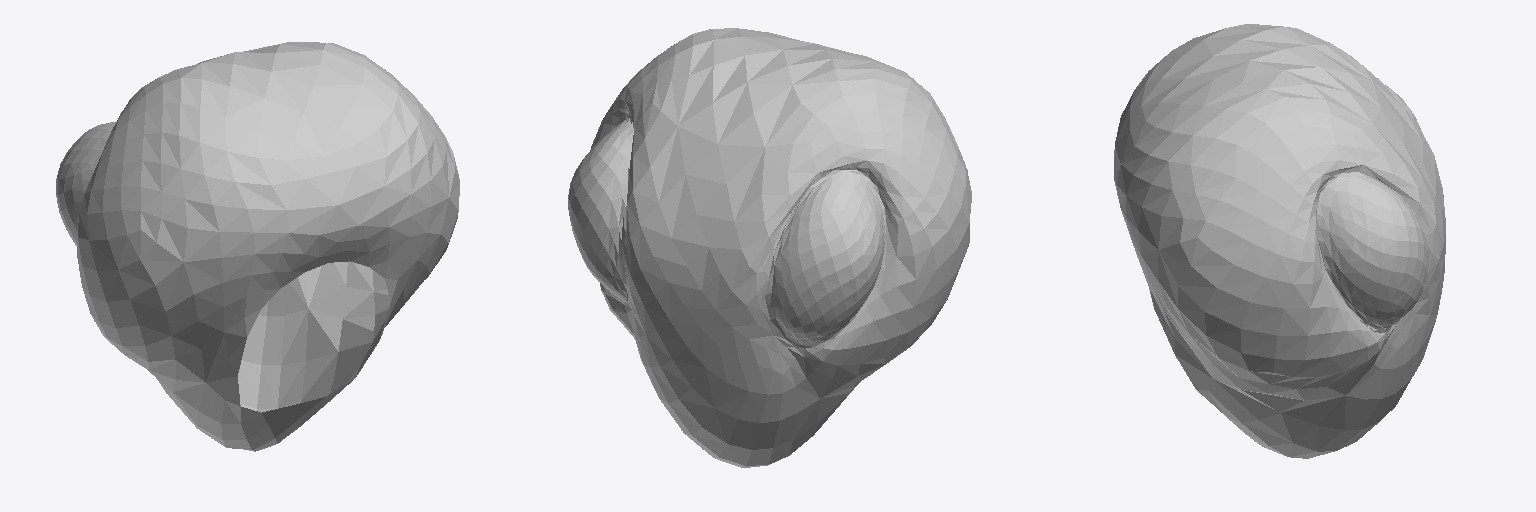
File: Rock_head.obj
The picture shows the model from 3 angles: view 1: azimuth 30°, elevation 25°; view 2: azimuth 150°, elevation 25°; view 3: azimuth 270°, elevation 25°; orthographic projection.
Visible parts, largest first — view 1: Cuerpo.003_Cube.013; view 2: Cuerpo.003_Cube.013; view 3: Cuerpo.003_Cube.013.
Part boxes in pixels (x1,y1,x2,y2): Cuerpo.003_Cube.013: (56,42,459,451); Cuerpo.003_Cube.013: (568,28,971,467); Cuerpo.003_Cube.013: (1114,24,1445,458).
Bounding box in the file's own units: 20.71 × 22.31 × 17.07.